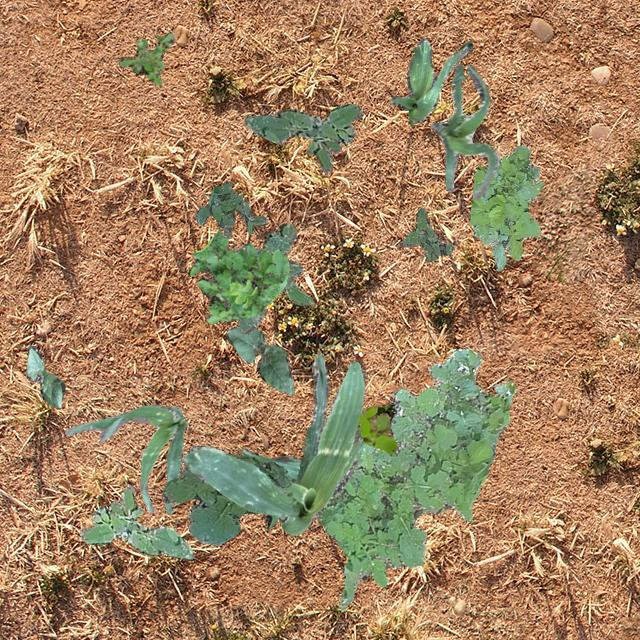crop: (182, 353, 366, 533), (64, 404, 186, 514), (430, 63, 498, 198), (389, 38, 472, 126), (240, 448, 302, 530), (225, 326, 292, 394), (24, 343, 64, 408), (374, 402, 396, 432), (191, 444, 225, 454)
weed: (316, 348, 514, 610), (162, 453, 292, 543), (468, 144, 542, 270), (188, 230, 288, 322), (236, 223, 314, 334), (78, 484, 192, 558), (244, 102, 362, 172), (194, 180, 266, 237), (398, 206, 452, 262), (118, 32, 174, 84), (356, 404, 400, 454)
